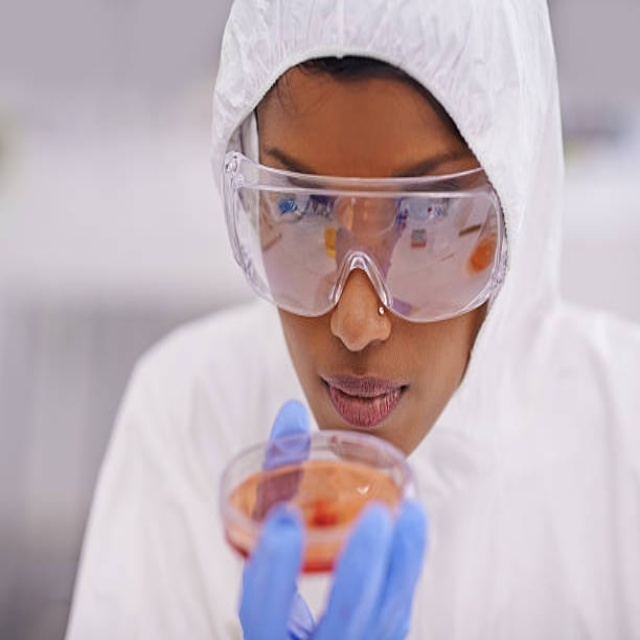Gafas: (219, 113, 506, 321)
Guantes: (236, 399, 426, 640)
Sin_mascara: (312, 351, 414, 455)
